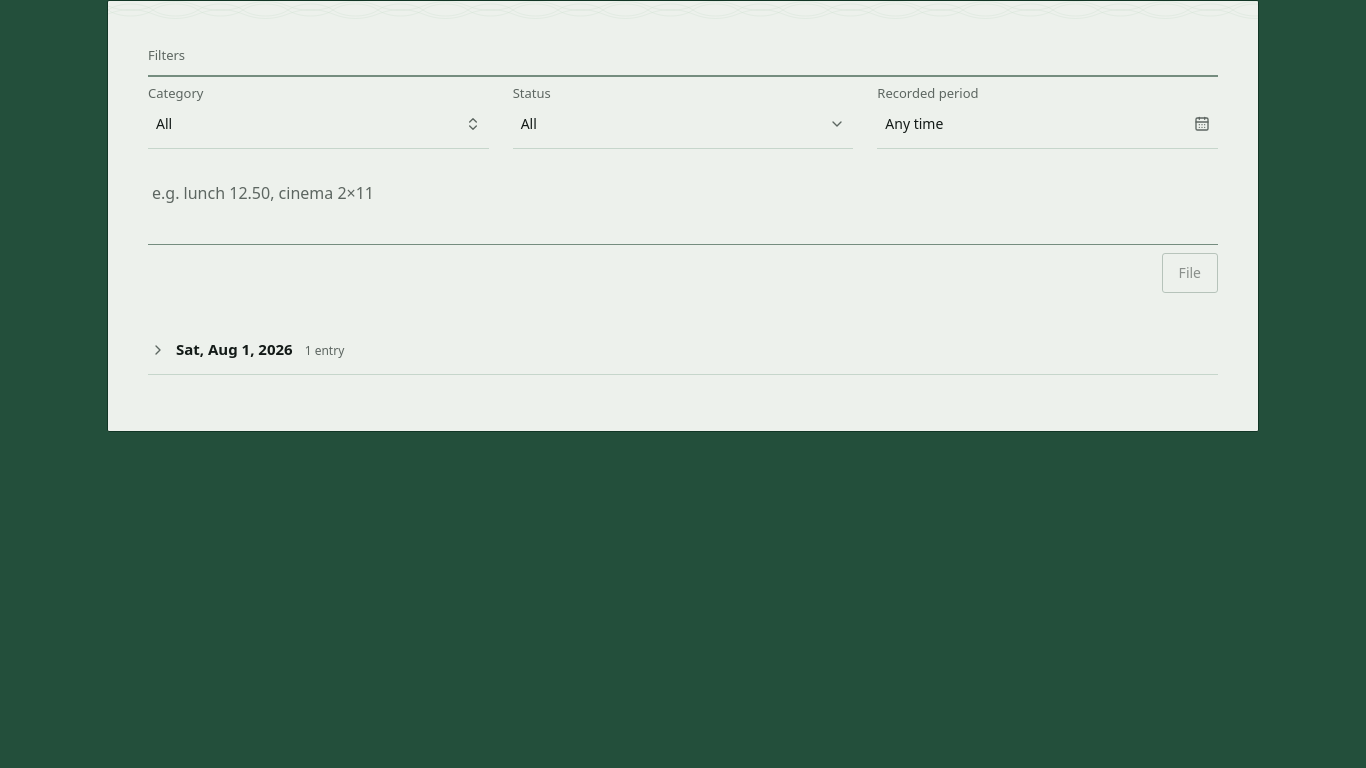
the expenses page › reads the listing, the categories and the groupings once and renders what they answered
Click the button "Sat, Aug 1, 2026 1 entry" at (234, 349), box [148, 325, 1218, 374]
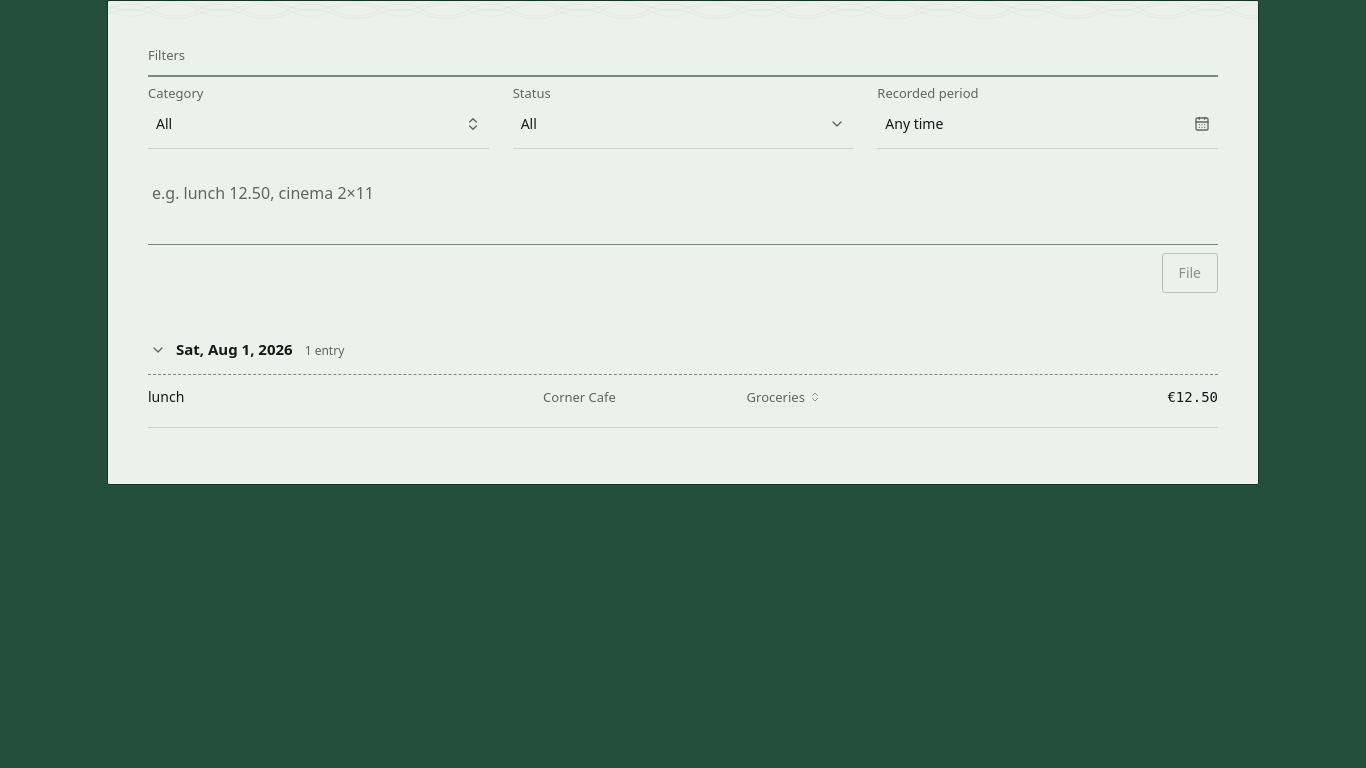
Check: the text "lunch" is shown, box [148, 387, 184, 406]
Click the button named "category" at (164, 124), box [148, 104, 489, 144]
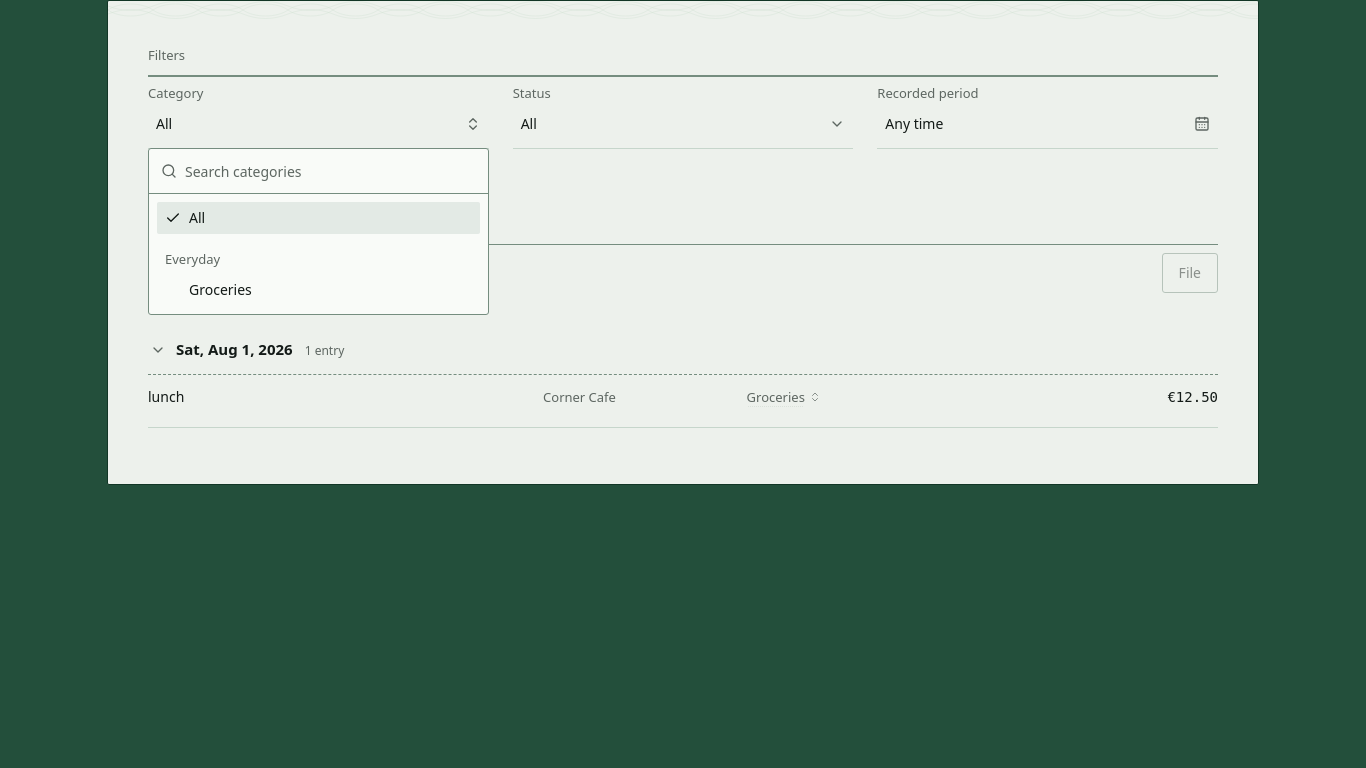
Check: the option "Groceries" is shown, box [189, 280, 252, 298]
Check: the text "Everyday" is shown, box [165, 250, 220, 268]
